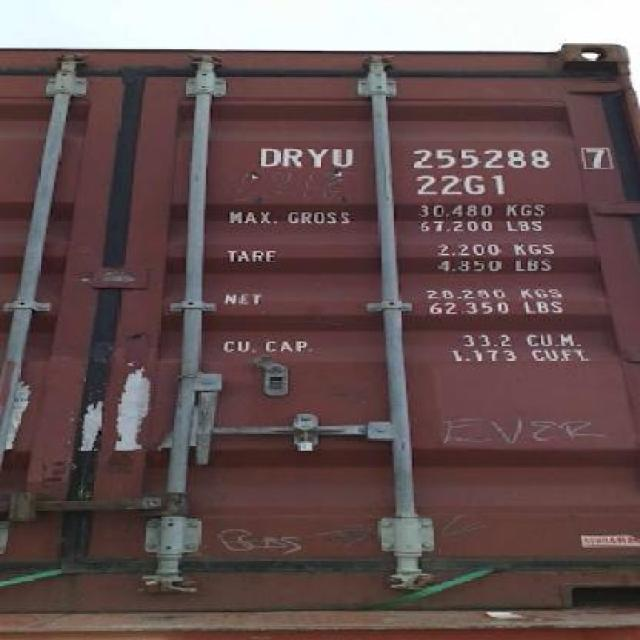ISO: (411, 168, 516, 196)
container_number: (251, 140, 614, 174)
